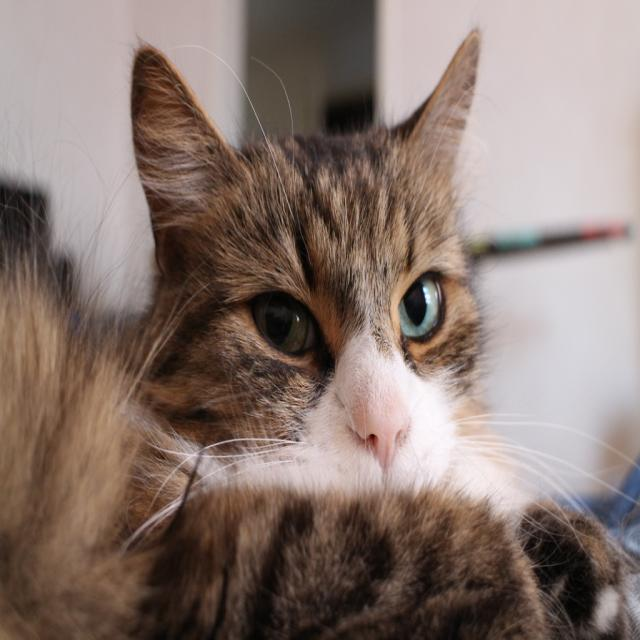Cat: (0, 25, 639, 638)
